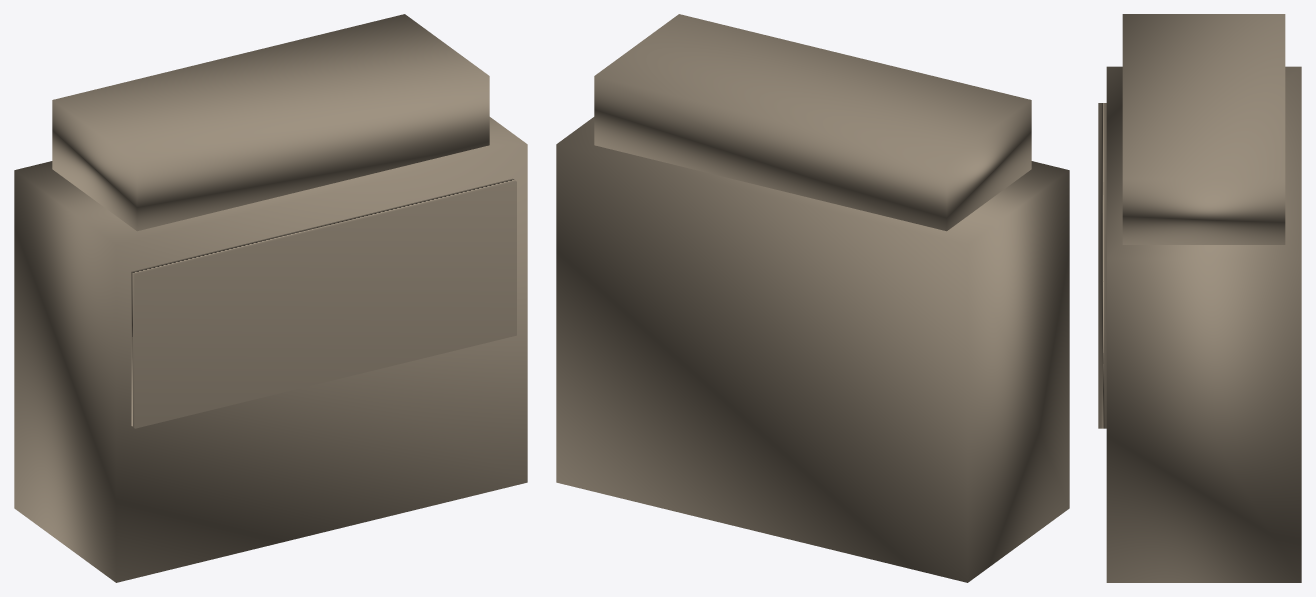
File: display_case.obj
3 views of the same model, side by side, from view 1: azimuth 30°, elevation 25°; view 2: azimuth 150°, elevation 25°; view 3: azimuth 270°, elevation 25° (orthographic). The views are drawn at different scales.
Size of the model in its own units: 2.8 by 2.65 by 1.25.
